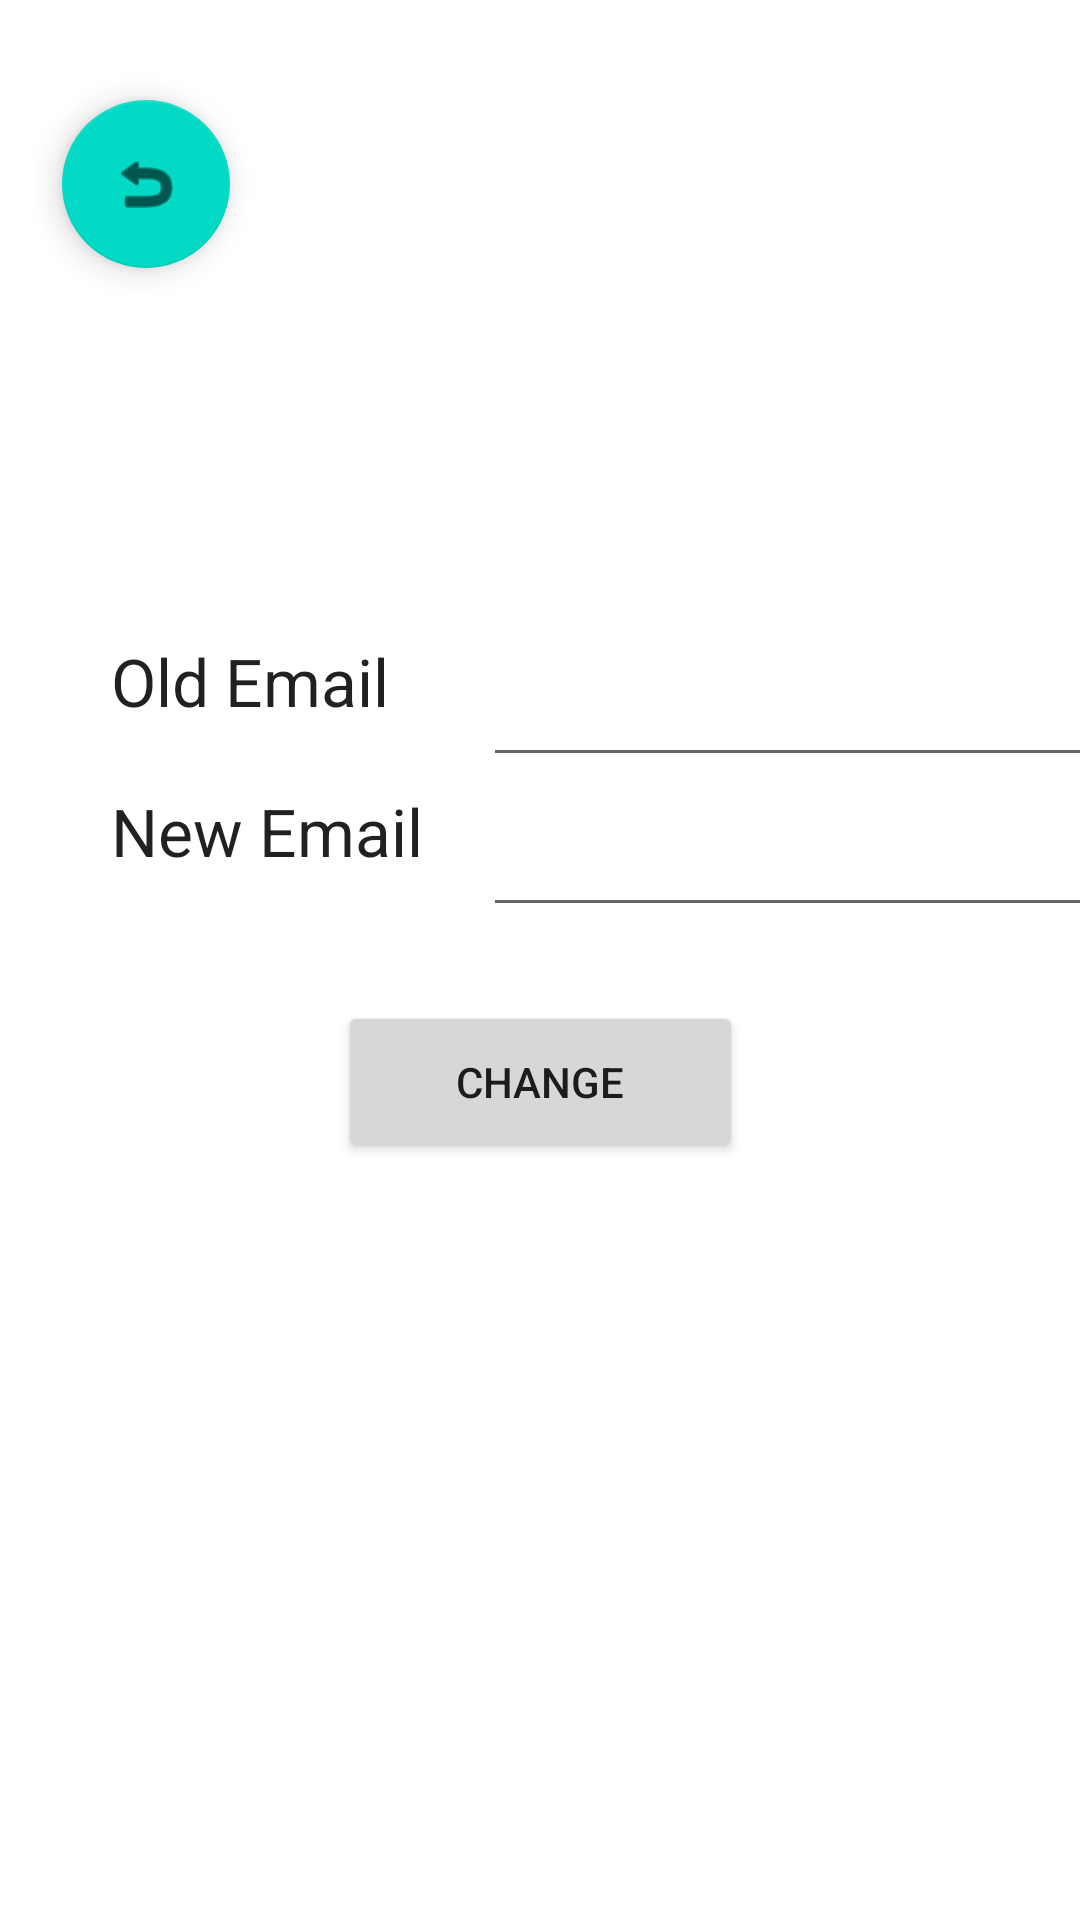

Icon bounding boxes for this 1080×1920 phone screenshot, format (left=x1, top=y1, right=x2, bottom=y2):
revert: (left=62, top=100, right=230, bottom=268)
